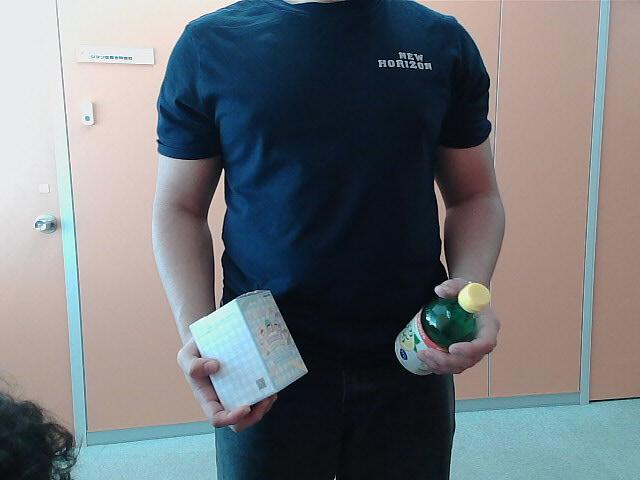Blind_box: (189, 292, 307, 408)
Lemon_sapporo: (392, 284, 492, 379)
